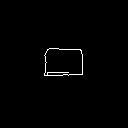cube: (39, 40, 103, 93)
